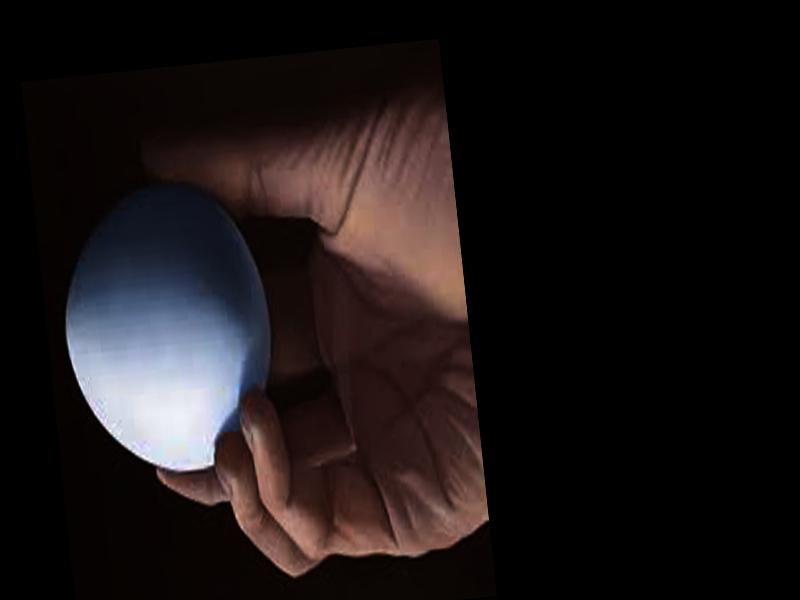Eggs: (49, 177, 282, 485)
